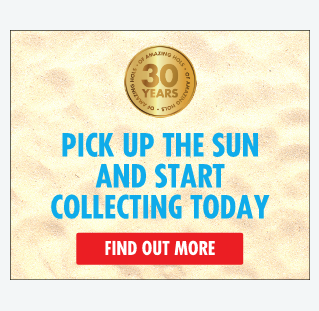fake_button: (74, 226, 246, 272)
